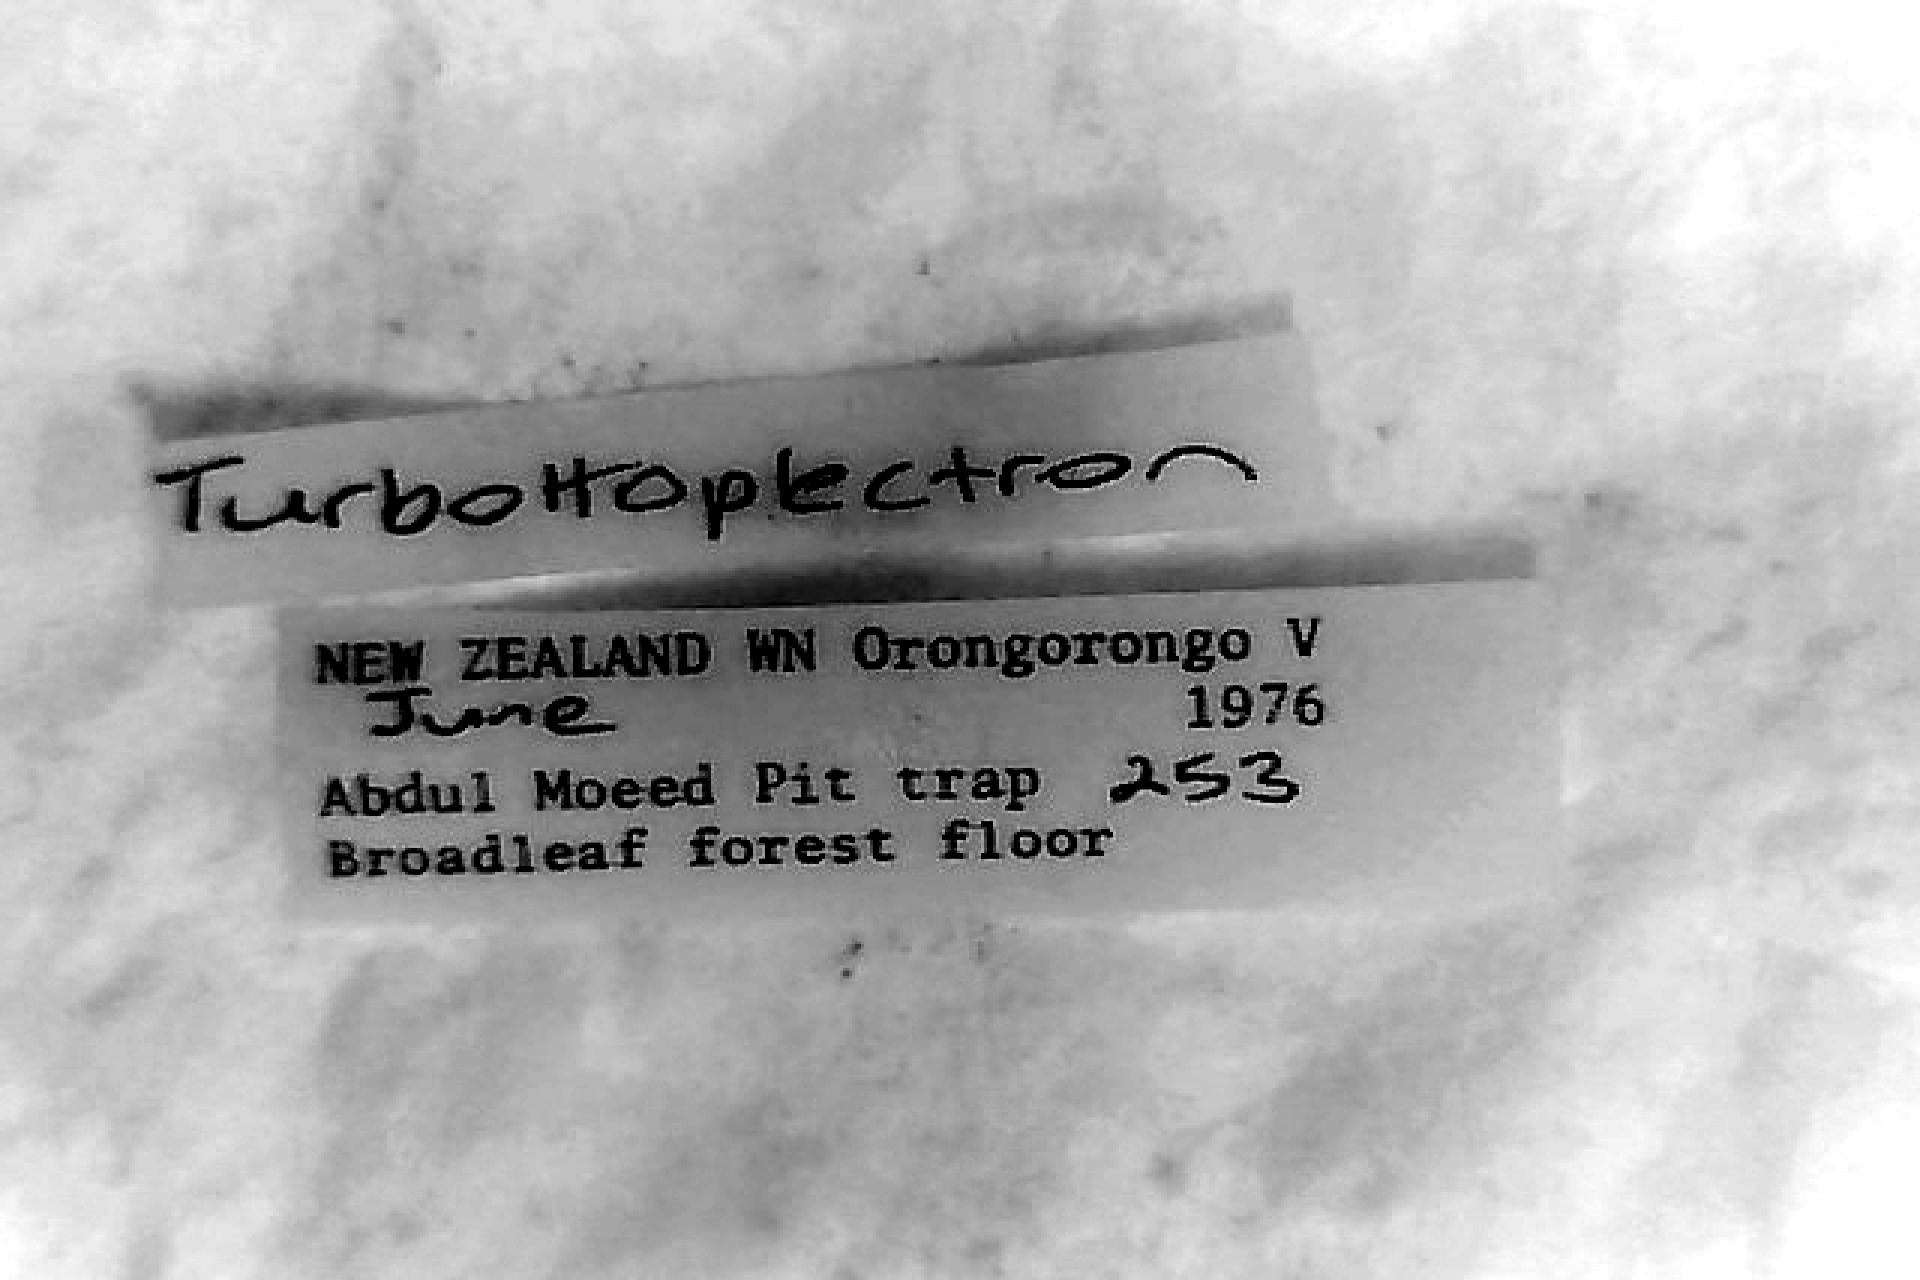hand_label: (154, 337, 1316, 603)
mixed_label: (286, 586, 1553, 913)
